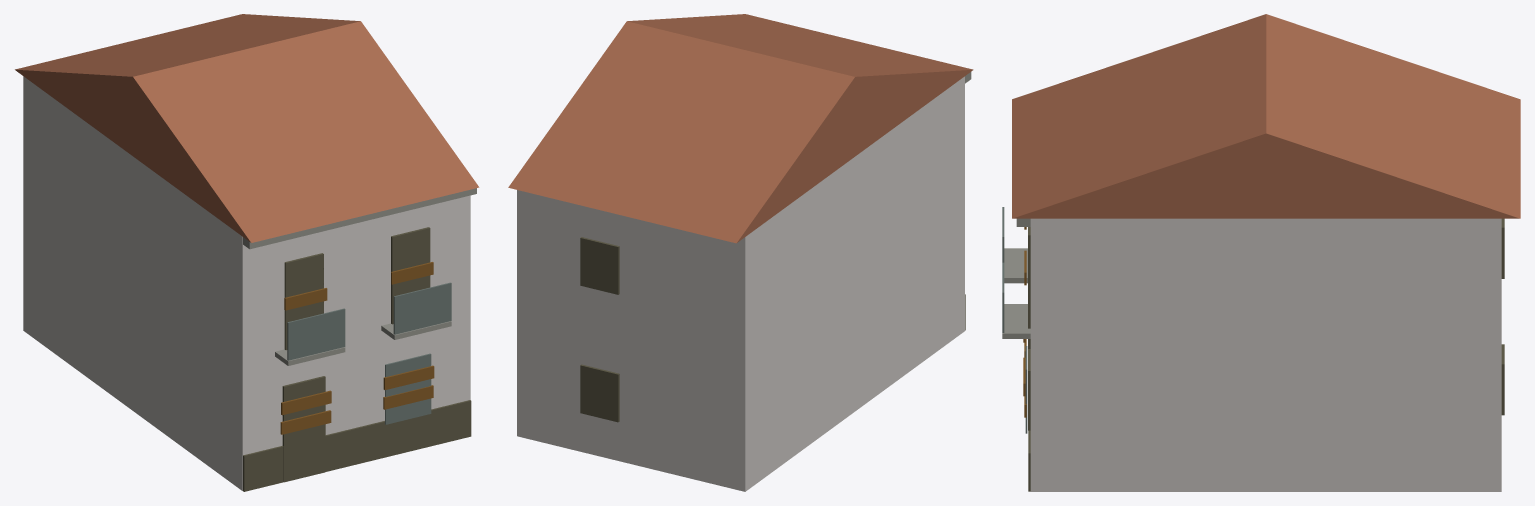
Rendered from SM_casa_pueblo_v4_LOD0.fbx.
The picture shows the model from 3 angles, left to right: view 1: azimuth 30°, elevation 25°; view 2: azimuth 150°, elevation 25°; view 3: azimuth 270°, elevation 25°; orthographic projection. The views are drawn at different scales.
Visible parts, largest first — view 1: SM_casa_pueblo_v4_LOD0; view 2: SM_casa_pueblo_v4_LOD0; view 3: SM_casa_pueblo_v4_LOD0.
Part boxes in pixels (bbox=[...]): SM_casa_pueblo_v4_LOD0: bbox=[15, 14, 479, 491]; SM_casa_pueblo_v4_LOD0: bbox=[508, 14, 973, 491]; SM_casa_pueblo_v4_LOD0: bbox=[1002, 14, 1520, 491].
Bounding box in the file's own units: 6 × 8.4 × 11.
